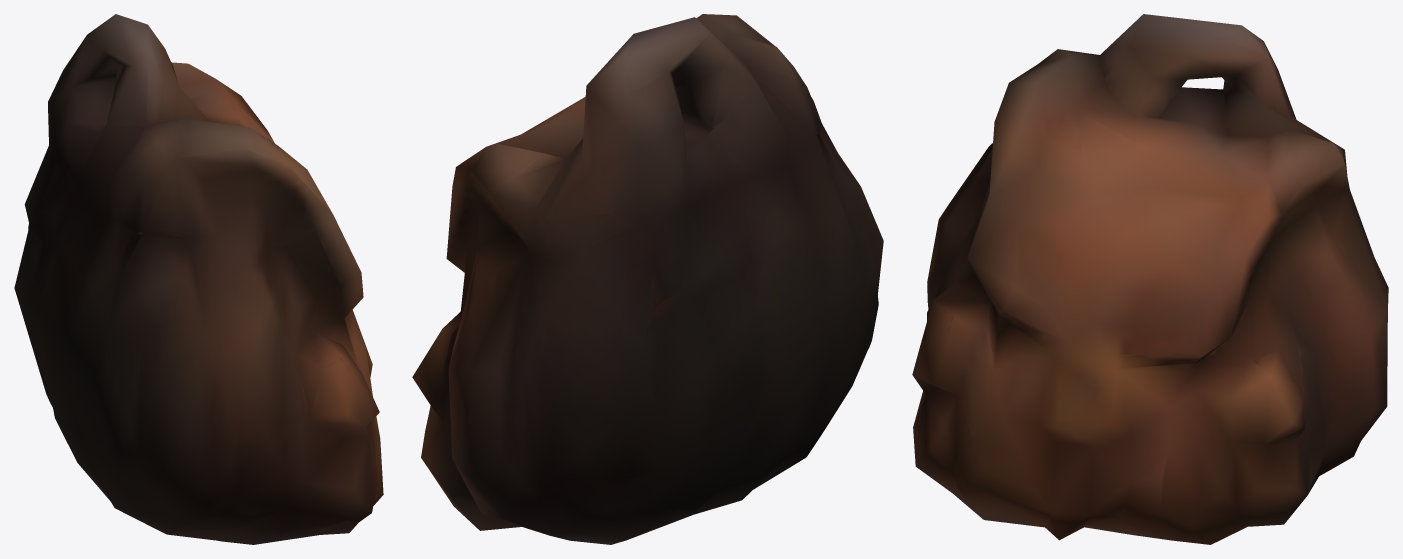
File: satchel.glb
3 views of the same model, side by side, from view 1: azimuth 30°, elevation 25°; view 2: azimuth 150°, elevation 25°; view 3: azimuth 270°, elevation 25° (orthographic). The views are drawn at different scales.
Parts seen in each view (by area): view 1: model; view 2: model; view 3: model.
Part boxes in pixels (x1,y1,x2,y2): model: (14, 14, 383, 544); model: (412, 14, 883, 544); model: (912, 14, 1388, 544).
Bounding box in the file's own units: 0.2704 × 0.3958 × 0.3688.
1 material, 1 textured.
